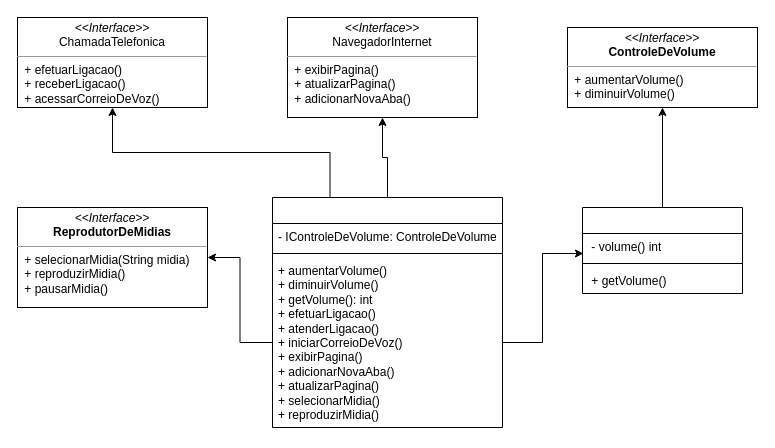
This 775x448 diagram has some shape labels left out. Here are the shapes that lost their labels. From the top down, the box of each, then its label:
(582, 206, 742, 294): ControleDeVolumeImpl
(272, 196, 502, 428): NewIphone
